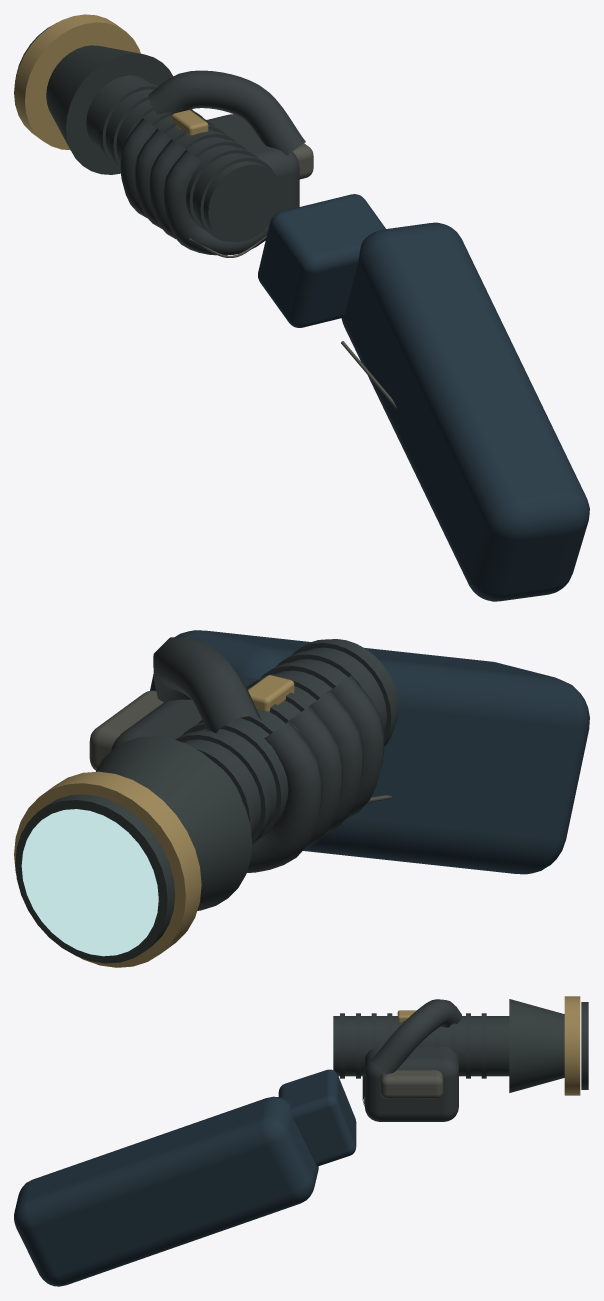
Rendered from guardEquipment.glb.
3 renders of one model, top to bottom at view 1: azimuth 30°, elevation 25°; view 2: azimuth 150°, elevation 25°; view 3: azimuth 270°, elevation 25°, orthographic. The views are drawn at different scales.
Parts seen in each view (by area): view 1: Articulated glove and inspection flashlight; view 2: Articulated glove and inspection flashlight; view 3: Articulated glove and inspection flashlight.
Part boxes in pixels (bbox=[...]): Articulated glove and inspection flashlight: bbox=[14, 14, 589, 601]; Articulated glove and inspection flashlight: bbox=[14, 630, 589, 967]; Articulated glove and inspection flashlight: bbox=[14, 996, 588, 1286].
Size of the model in its own units: 0.3081 by 0.4435 by 0.9151.
